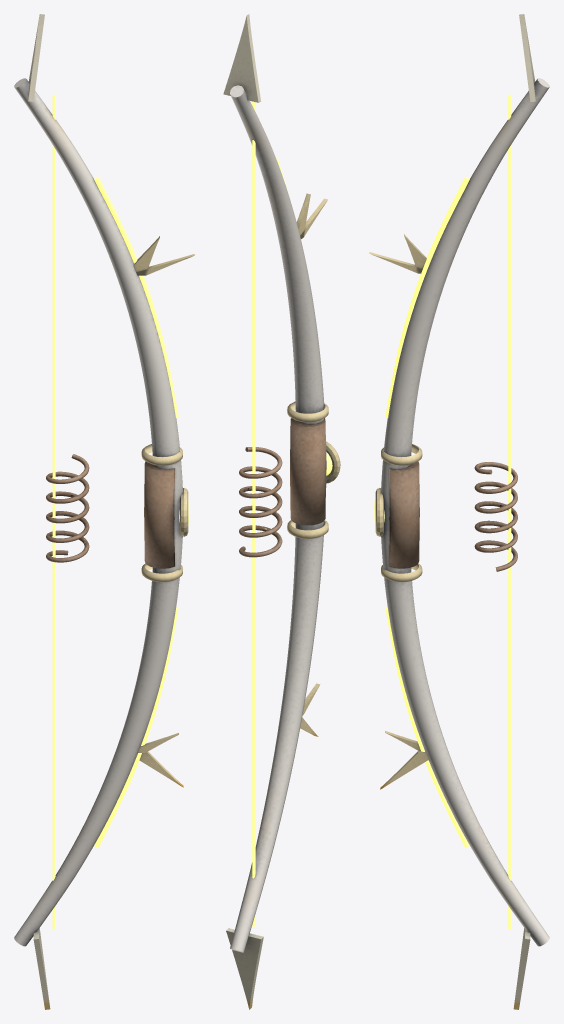
Rendered from arma_lend_arco_celestial.glb.
3 renders of one model, left to right at view 1: azimuth 90°, elevation 25°; view 2: azimuth 150°, elevation 25°; view 3: azimuth 270°, elevation 25°, orthographic.
Visible parts, largest first — view 1: arma_lend_arco_celestial, corda, filete1, filete-1; view 2: arma_lend_arco_celestial, corda; view 3: arma_lend_arco_celestial, corda, filete1, filete-1.
Boxes of the visible parts, left/top/right/bottom form: arma_lend_arco_celestial: left=14, top=14, right=194, bottom=1009; corda: left=52, top=94, right=55, bottom=929; filete1: left=94, top=177, right=178, bottom=417; filete-1: left=94, top=606, right=178, bottom=847; arma_lend_arco_celestial: left=223, top=14, right=340, bottom=1009; corda: left=252, top=101, right=255, bottom=926; arma_lend_arco_celestial: left=369, top=14, right=549, bottom=1009; corda: left=508, top=94, right=511, bottom=929; filete1: left=385, top=177, right=469, bottom=417; filete-1: left=385, top=606, right=469, bottom=847.
Size of the model in its own units: 0.0728 by 1.62 by 0.2664.
5 materials, 1 textured.
